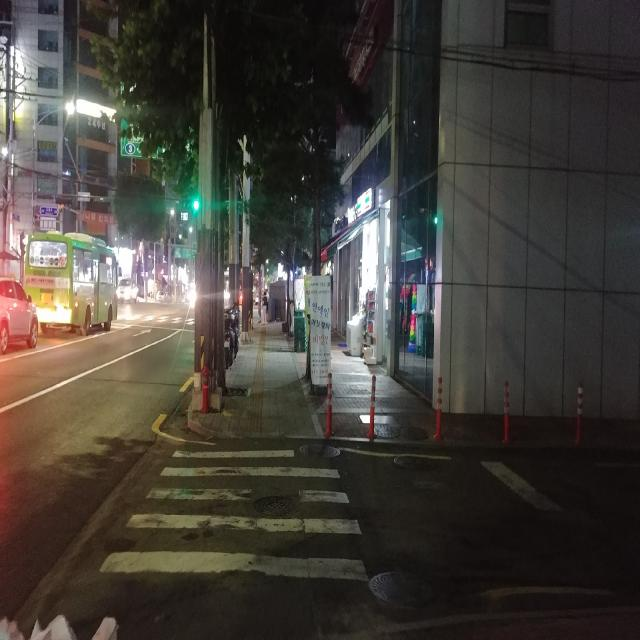횡단보도: (96, 447, 372, 584), (126, 315, 188, 323)
